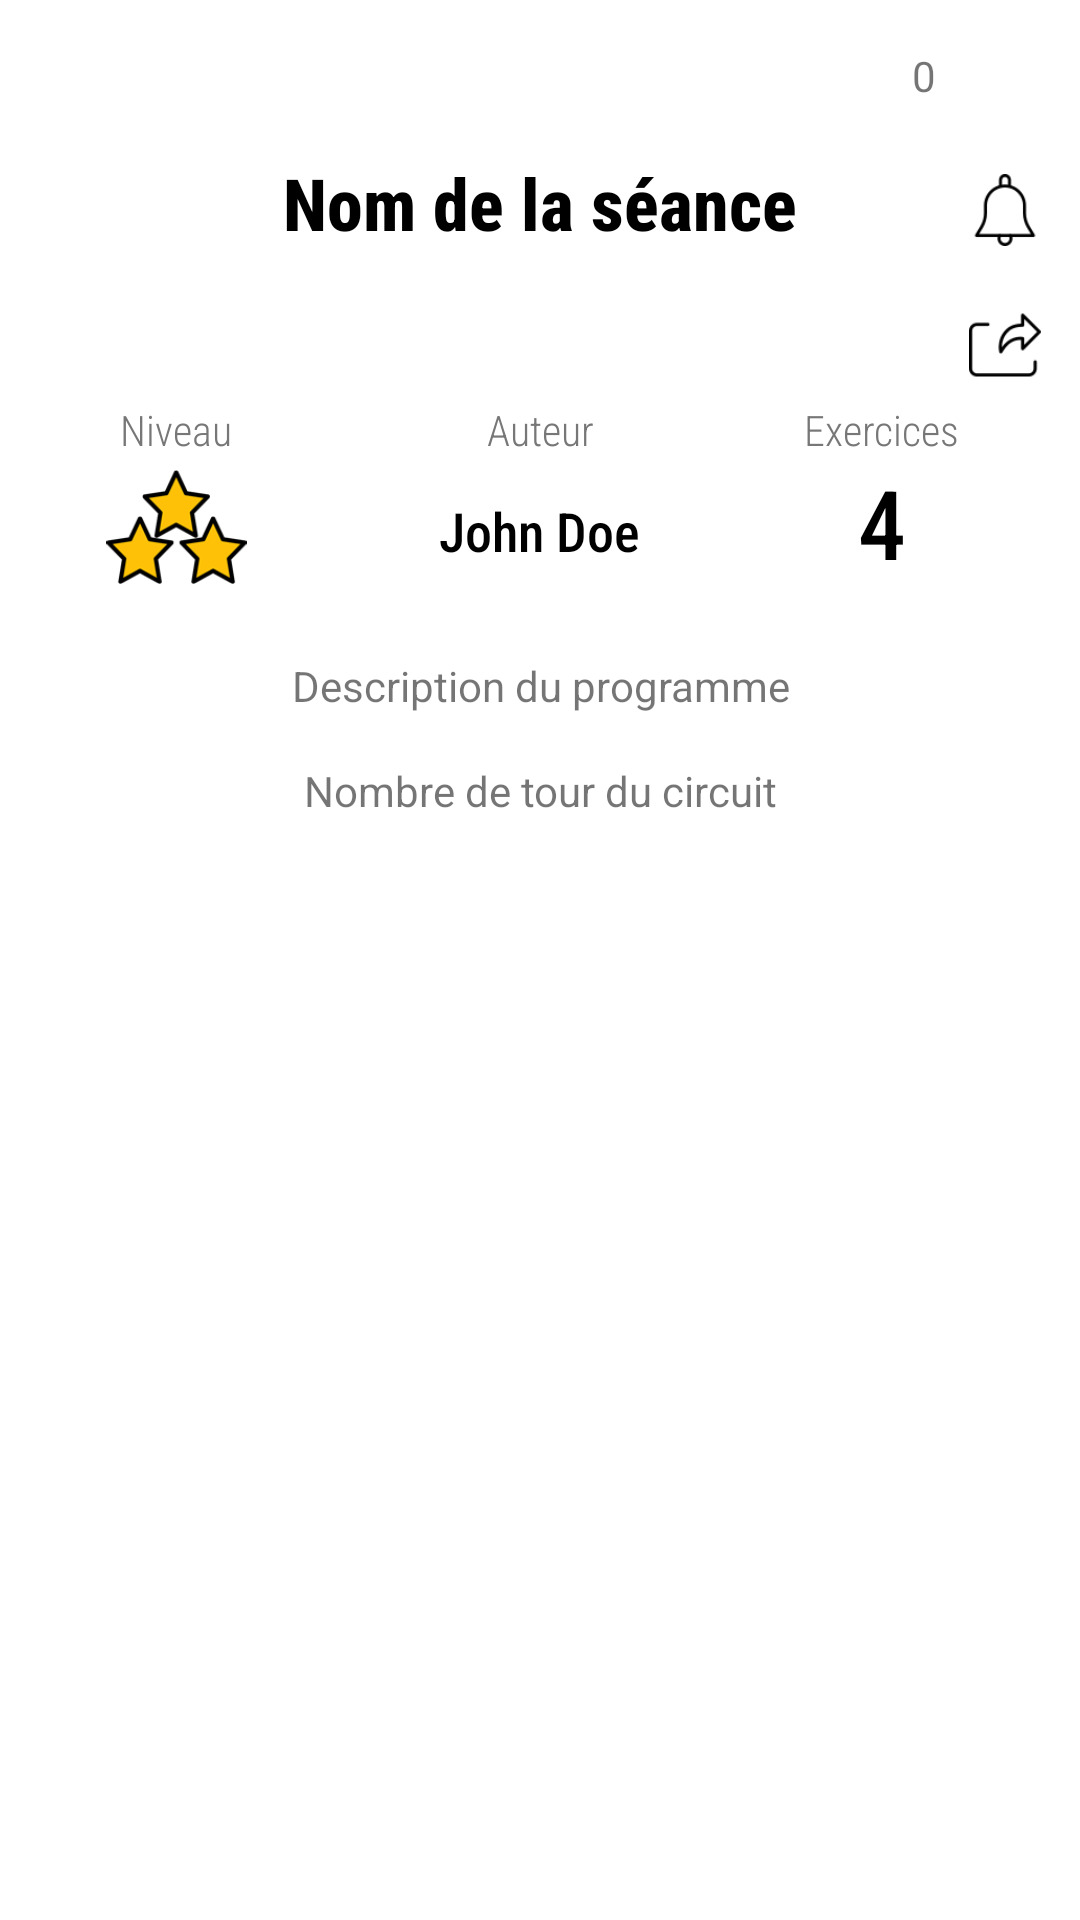

Icon click points for this 1080x1920 phone screenshot, format point (x, y):
notification: point (1005, 210)
share: point (1005, 345)
